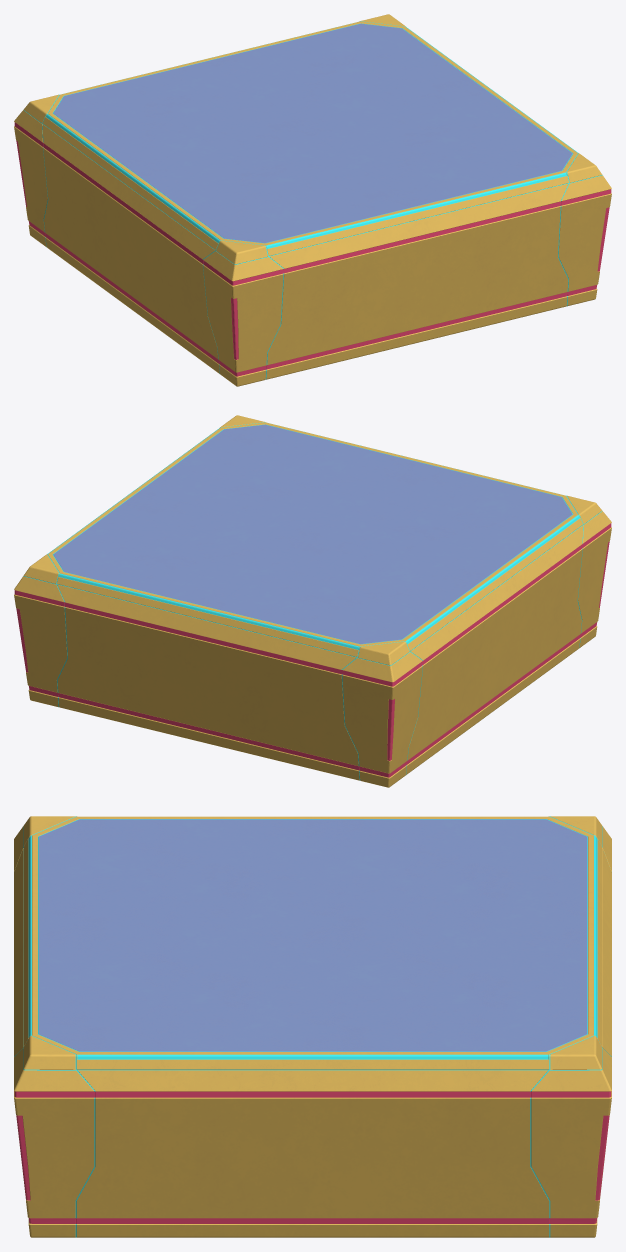
The model's file is WhackMoleA.fbx.
3 renders of one model, top to bottom at view 1: azimuth 30°, elevation 25°; view 2: azimuth 150°, elevation 25°; view 3: azimuth 270°, elevation 25°, orthographic. The views are drawn at different scales.
Parts seen in each view (by area): view 1: SM_VA_WhackMoleA.mo; view 2: SM_VA_WhackMoleA.mo; view 3: SM_VA_WhackMoleA.mo.
Part boxes in pixels (x1,y1,x2,y2): SM_VA_WhackMoleA.mo: (14,14,611,386); SM_VA_WhackMoleA.mo: (14,415,611,787); SM_VA_WhackMoleA.mo: (14,816,611,1237).
Bounding box in the file's own units: 37 × 12.5 × 36.95.
